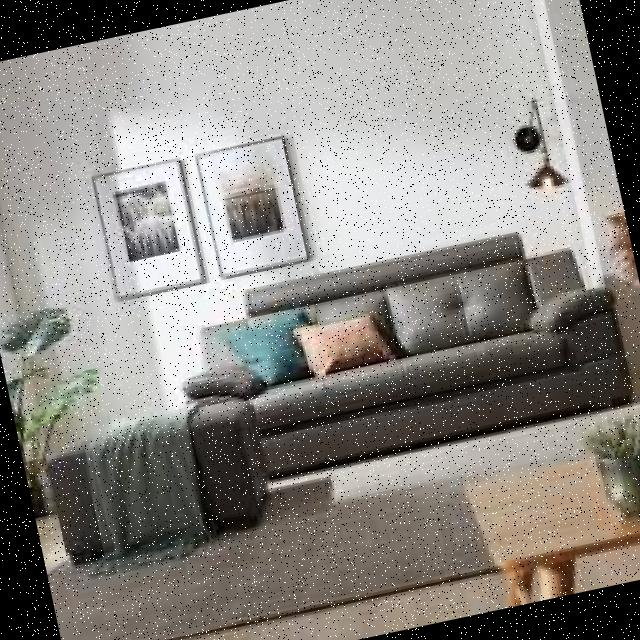Sofa: (56, 186, 640, 533)
